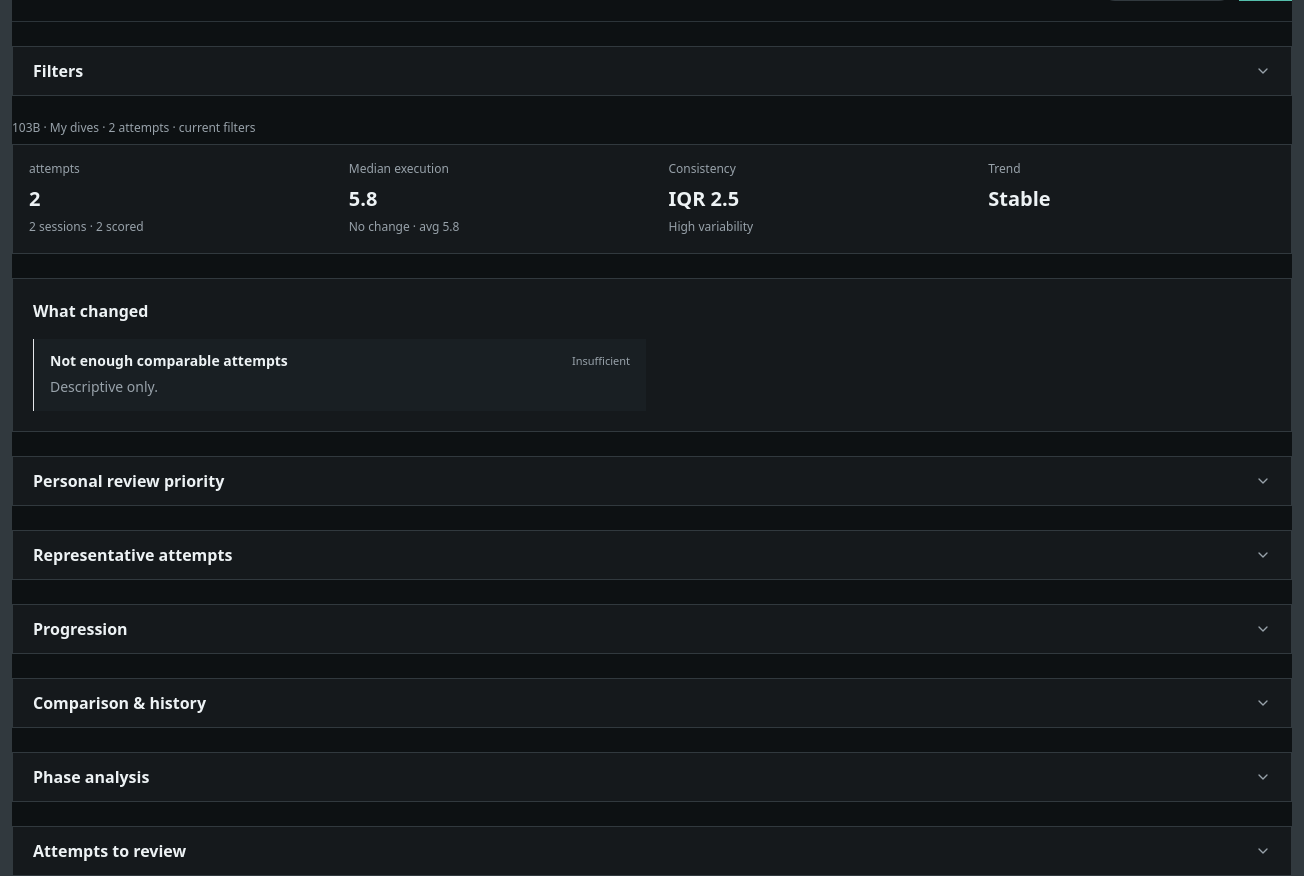
Test: Per-dive intelligence V2 › reports missing phase values instead of zero
(page scrolled)
Expected: the element with test id "analysis-key-summary" is shown, [12, 120, 1292, 254]
Click the button "Phase analysis" at (91, 777), box [13, 753, 1291, 801]
(page scrolled)
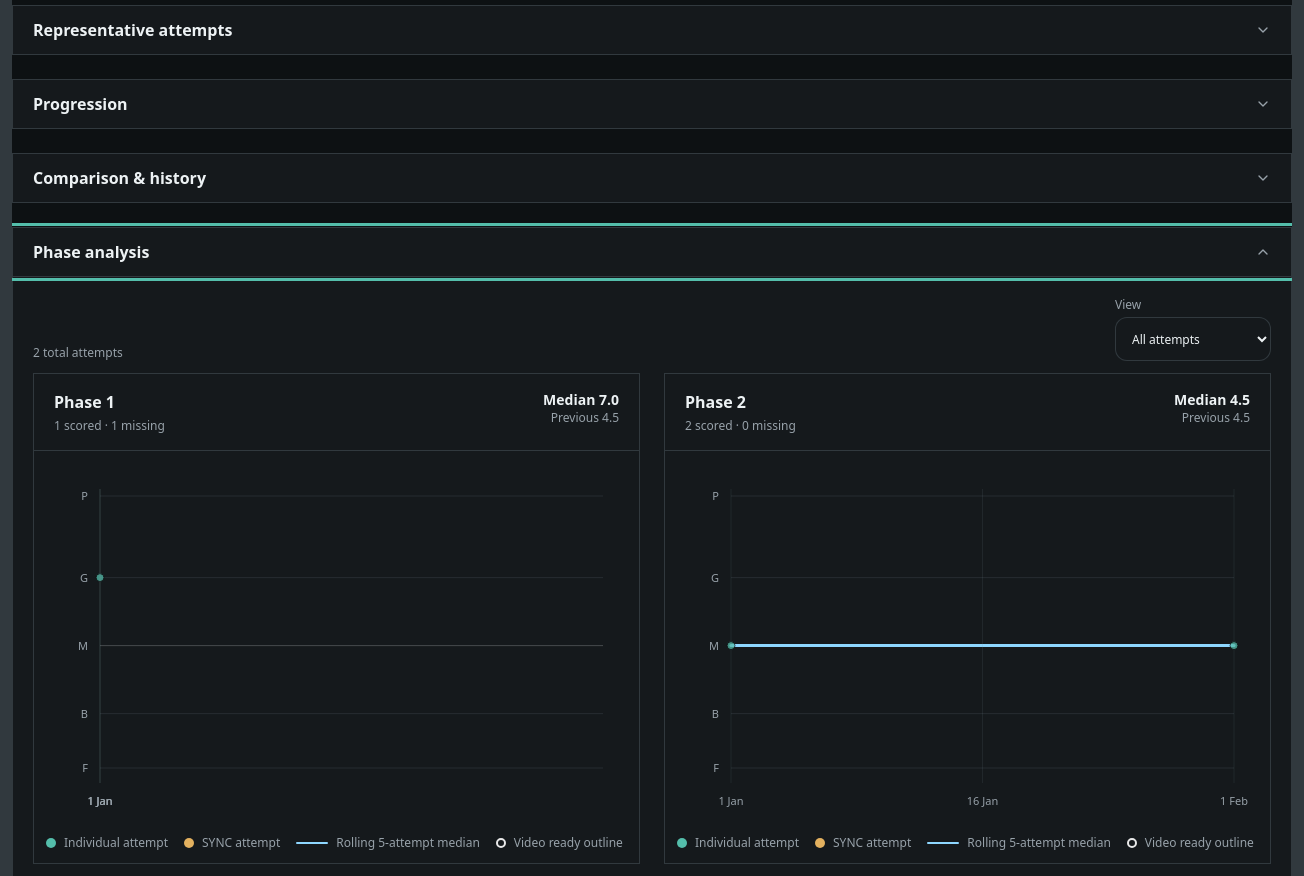
Expected: the text "1 scored · 1 missing" is shown, [54, 418, 165, 434]
